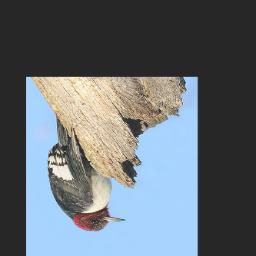Woodpecker: (47, 116, 126, 232)
